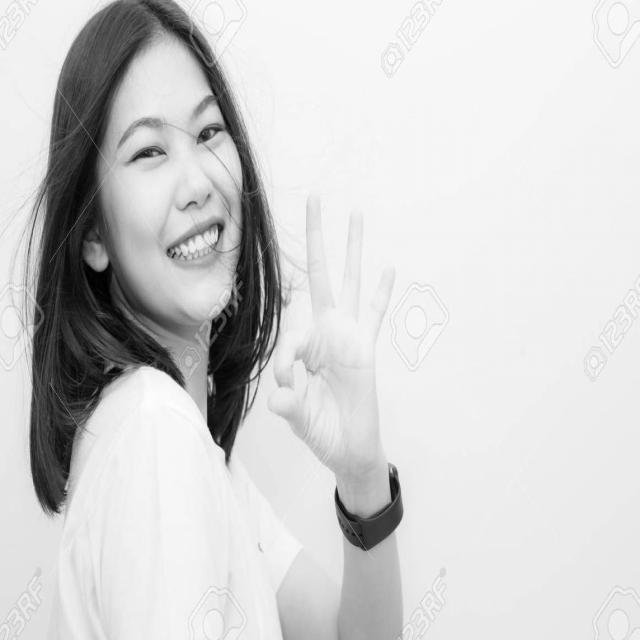perfect: (263, 184, 398, 474)
